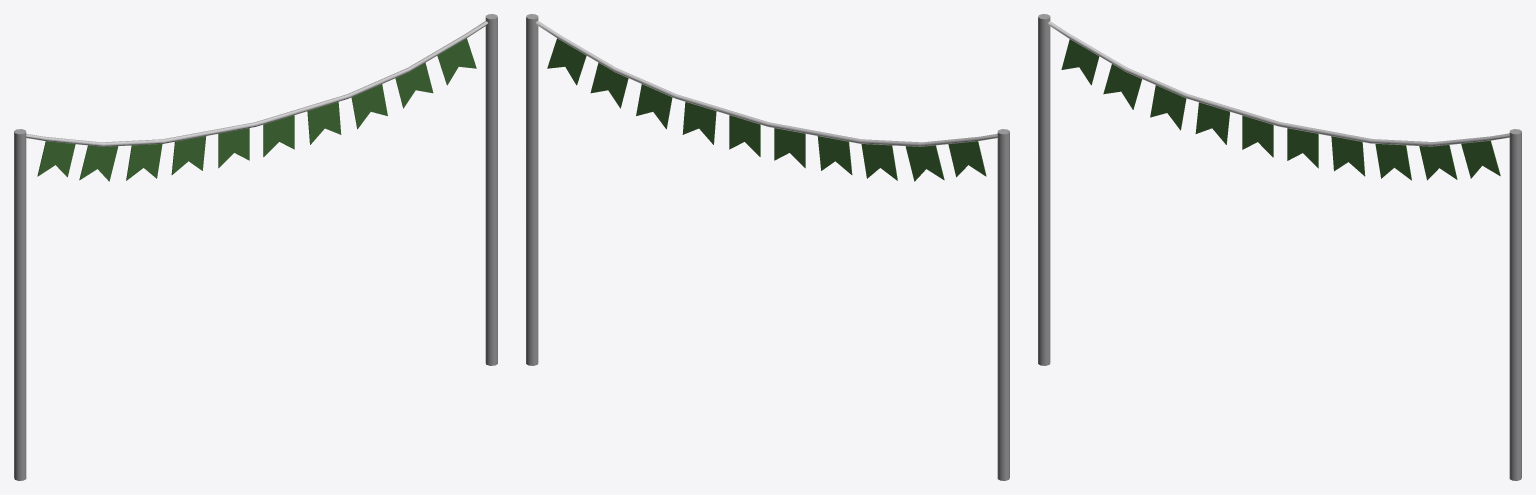
File: Decoration_01.fbx
The picture shows the model from 3 angles, left to right: view 1: azimuth 30°, elevation 25°; view 2: azimuth 150°, elevation 25°; view 3: azimuth 330°, elevation 25°; orthographic projection.
Visible parts, largest first — view 1: Decoration_01; view 2: Decoration_01; view 3: Decoration_01.
Boxes of the visible parts, x1,y1,x2,y2 form: Decoration_01: (14,14,497,480); Decoration_01: (526,14,1009,480); Decoration_01: (1038,14,1521,480).
Size of the model in its own units: 2.62 by 1.8 by 0.0605.
